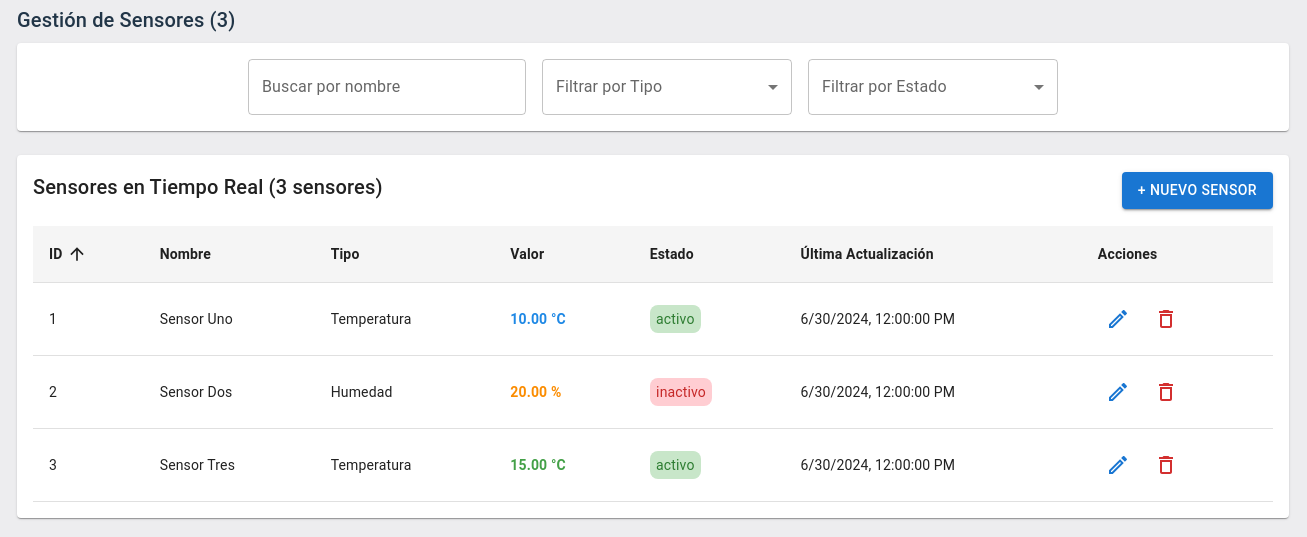
Test case: Dashboard › filtra sensores por nombre
The image size is (1307, 537).
Type "Uno" into the field labelled "Buscar por nombre" at (387, 87), box [248, 59, 526, 115]
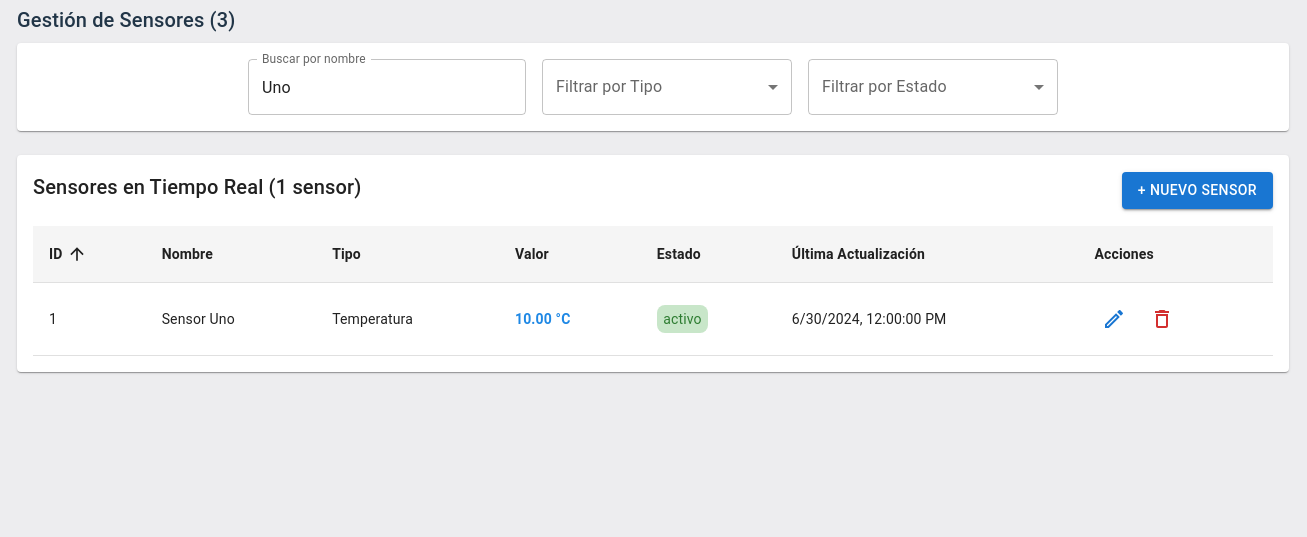
Expected: the text "Sensor Uno" is shown, [146, 282, 316, 356]
Expected: the text "Sensor Dos" is gone
Expected: the text "Sensor Tres" is gone
